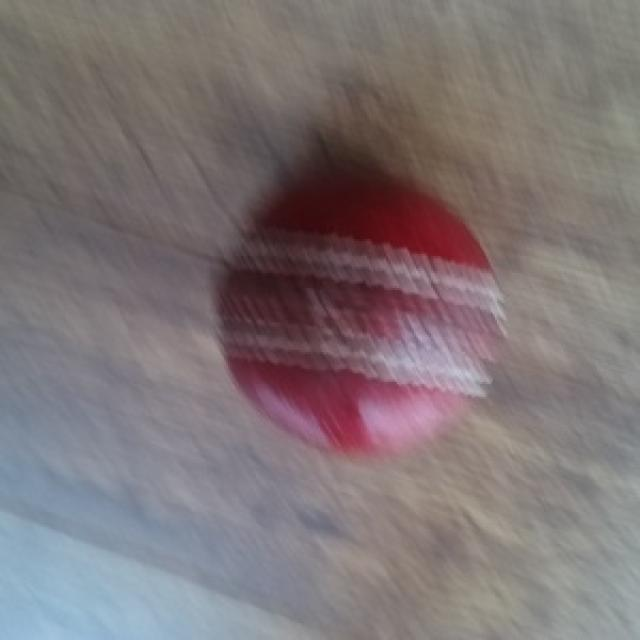ball: (205, 180, 503, 450)
